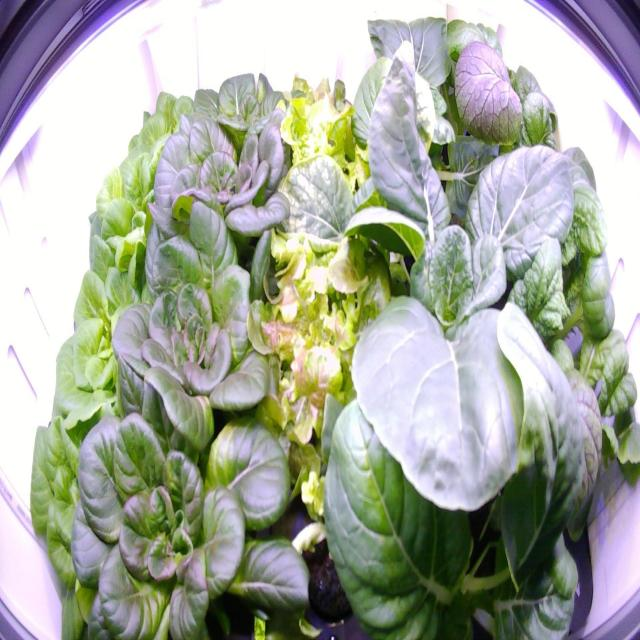Ready: (62, 343, 319, 640), (104, 202, 310, 450), (139, 104, 307, 307), (171, 59, 311, 200)
young: (21, 385, 156, 639), (40, 237, 162, 431), (81, 132, 184, 298), (120, 72, 219, 198)
